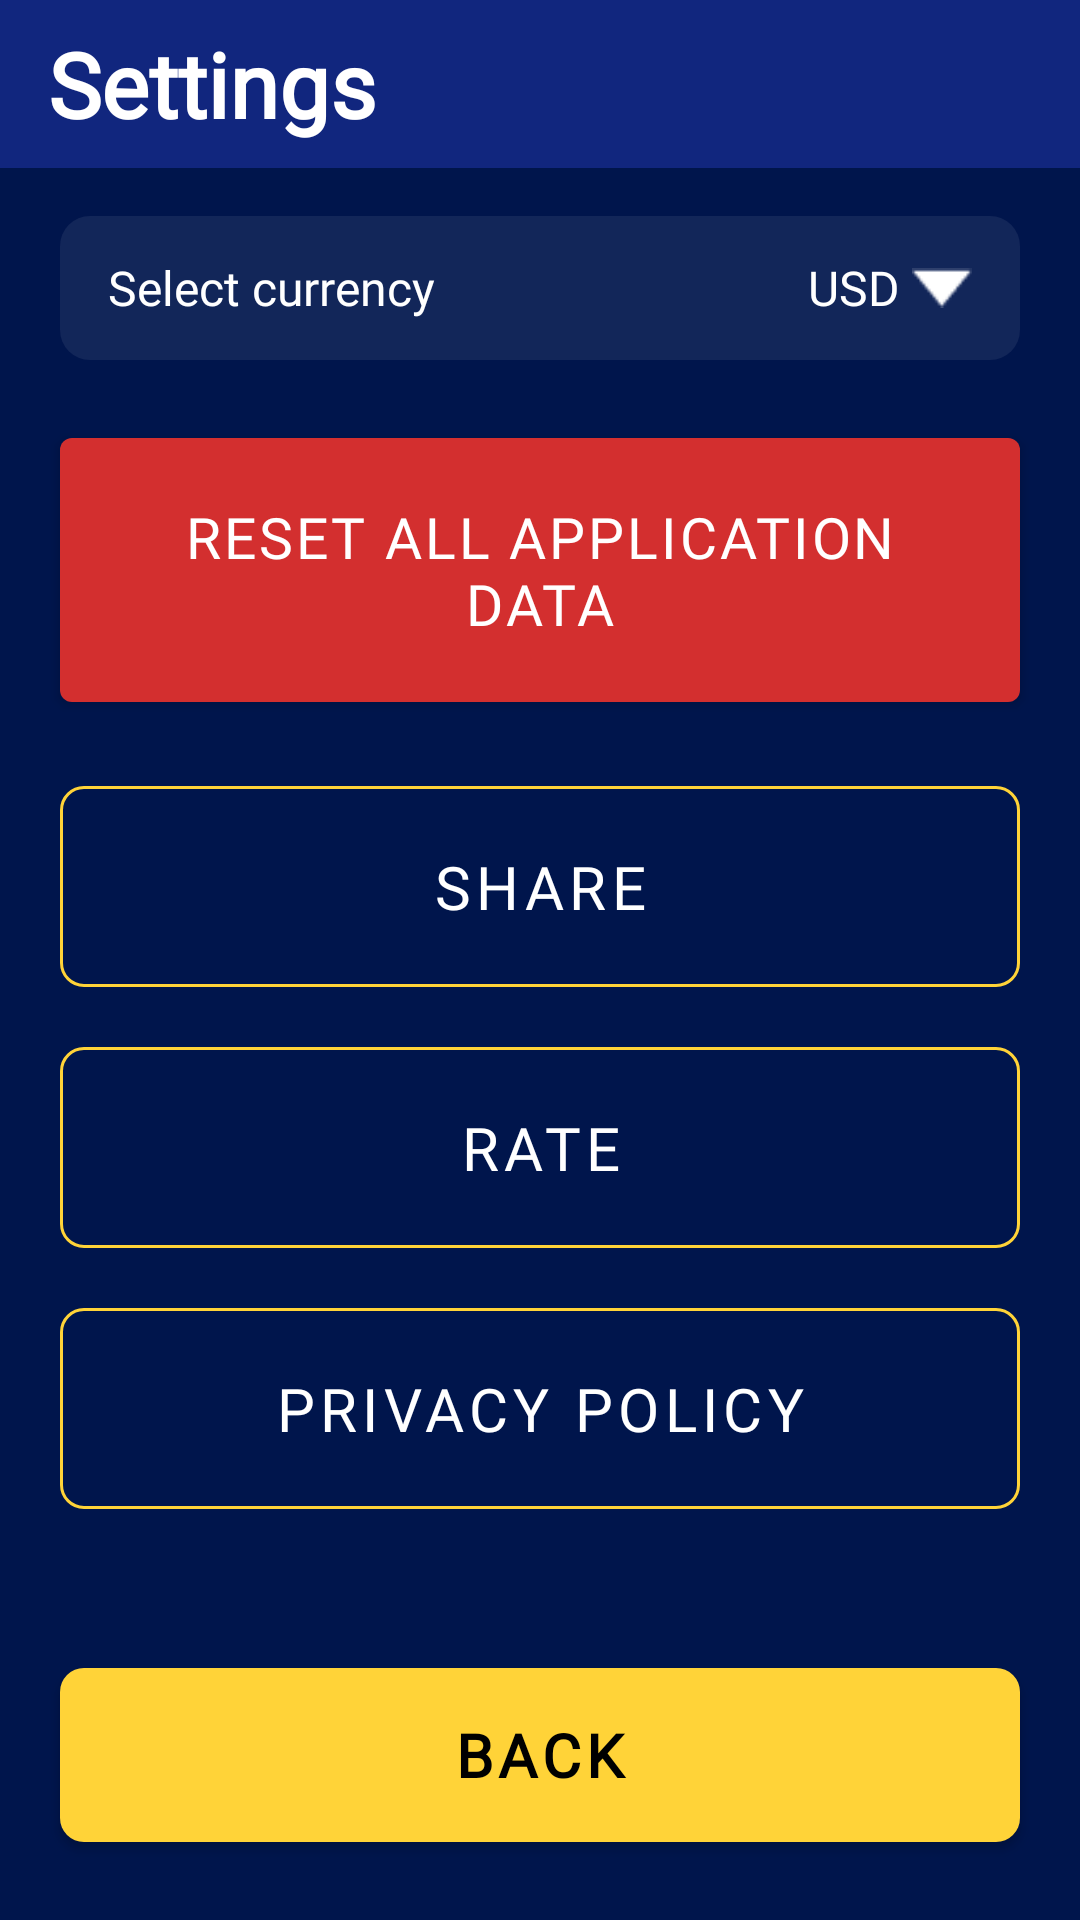

Point at icon controls on the screen. Image size 1080*1920, points as (x,y).
arrow drop down: (942,288)
